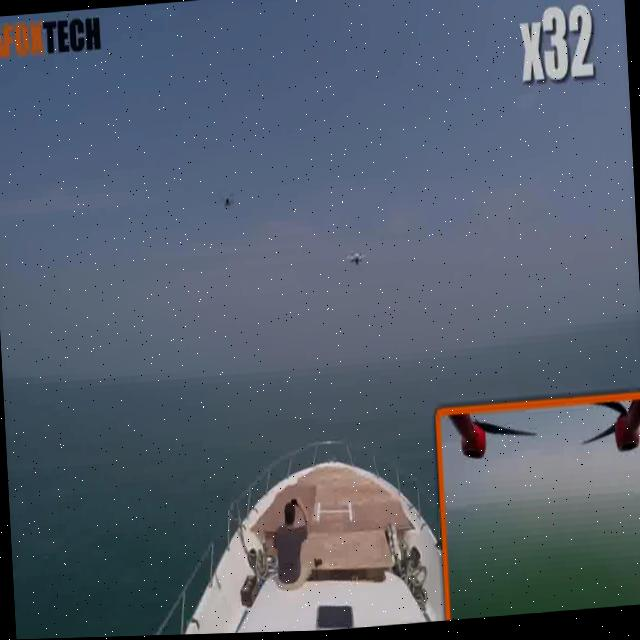drone: (340, 242, 371, 277), (218, 185, 238, 225)
